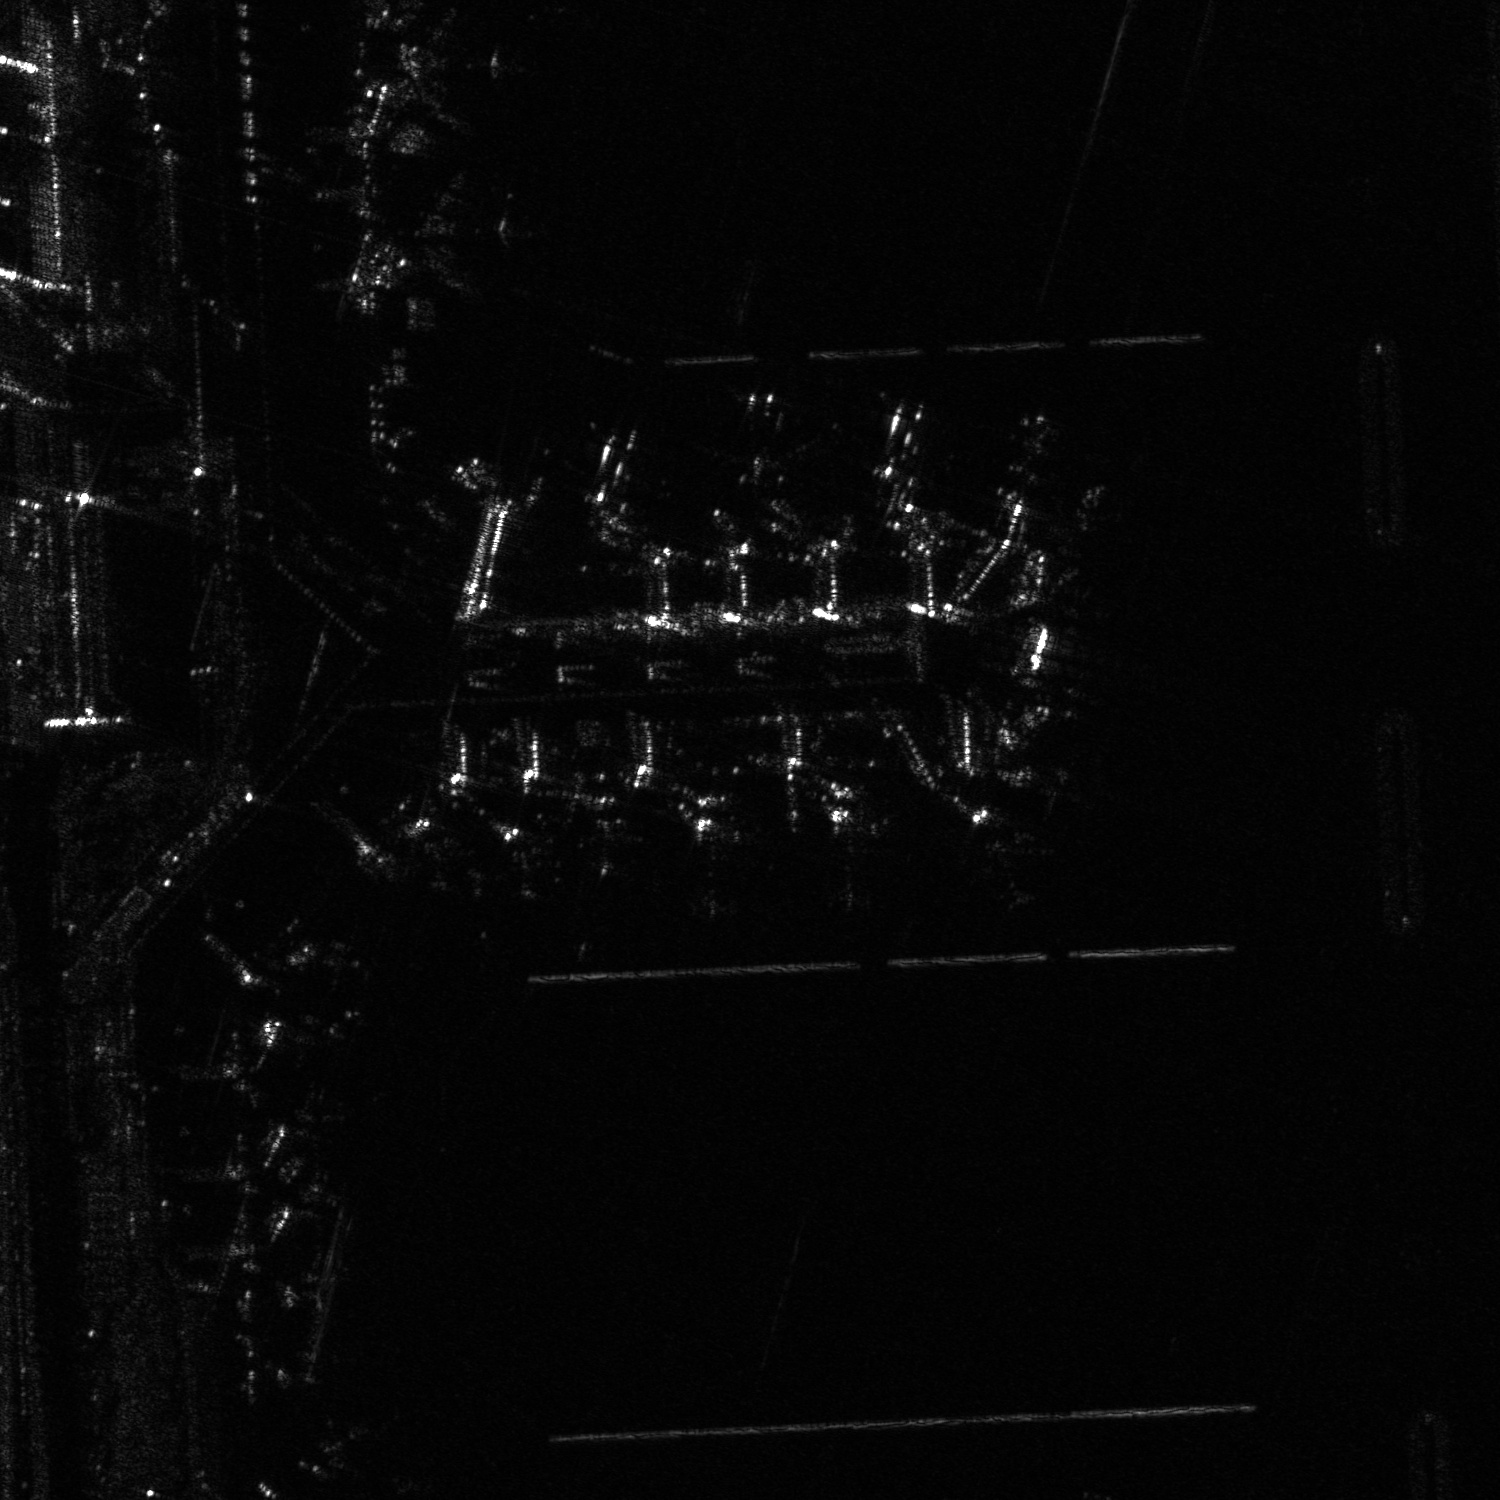A220: (979, 401, 1059, 511), (279, 1418, 400, 1484), (565, 813, 650, 894), (1074, 484, 1129, 530)
A320/321: (354, 161, 554, 310), (527, 419, 683, 516), (841, 398, 967, 495), (254, 1071, 370, 1168)
Boeing737: (951, 795, 1066, 918), (484, 837, 565, 908)
Boeing787: (659, 815, 776, 919)
other: (684, 380, 838, 489), (797, 799, 897, 909)
